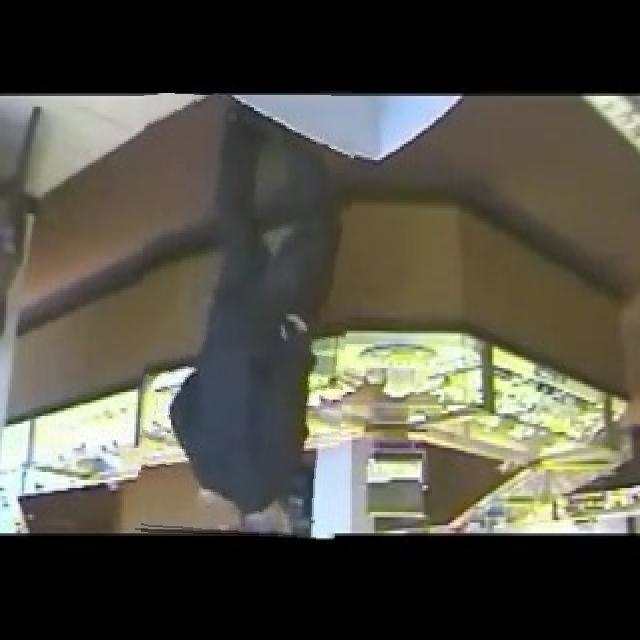Normal: (141, 95, 351, 537)
